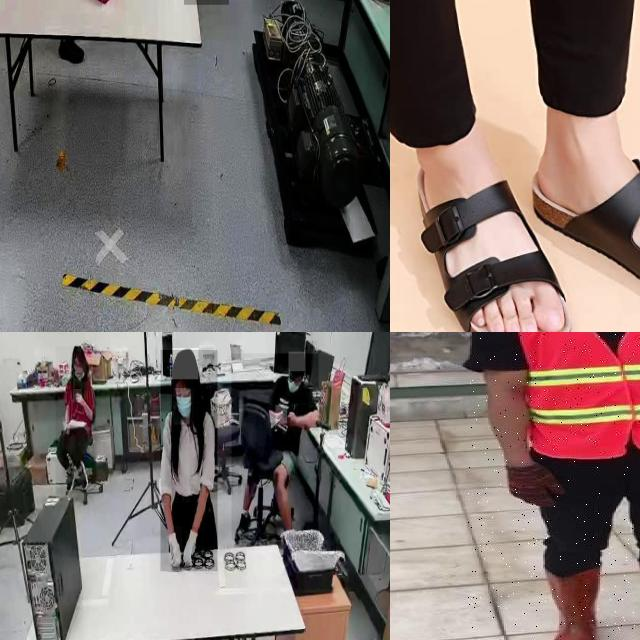Sandals: (400, 121, 569, 332), (540, 109, 640, 325)
boots: (543, 568, 602, 640)
face_mask: (173, 388, 193, 425)
hand_glove: (167, 527, 183, 577), (185, 527, 199, 570)
hand_noglove: (276, 405, 288, 425), (284, 409, 296, 428), (62, 417, 70, 435), (73, 389, 83, 403)
head_nohelmet: (172, 348, 199, 380), (288, 352, 306, 372), (71, 344, 85, 358)
person: (468, 332, 640, 640), (231, 353, 319, 541), (160, 350, 218, 572), (55, 346, 97, 495)
shoes: (58, 37, 86, 65), (234, 506, 252, 540), (62, 462, 76, 494), (76, 461, 89, 489)
vest: (513, 332, 640, 457)
